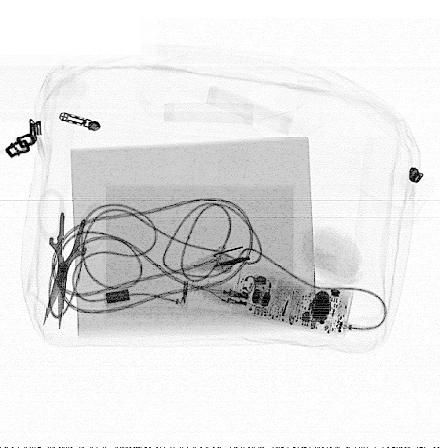Scissors: (36, 187, 112, 335)
